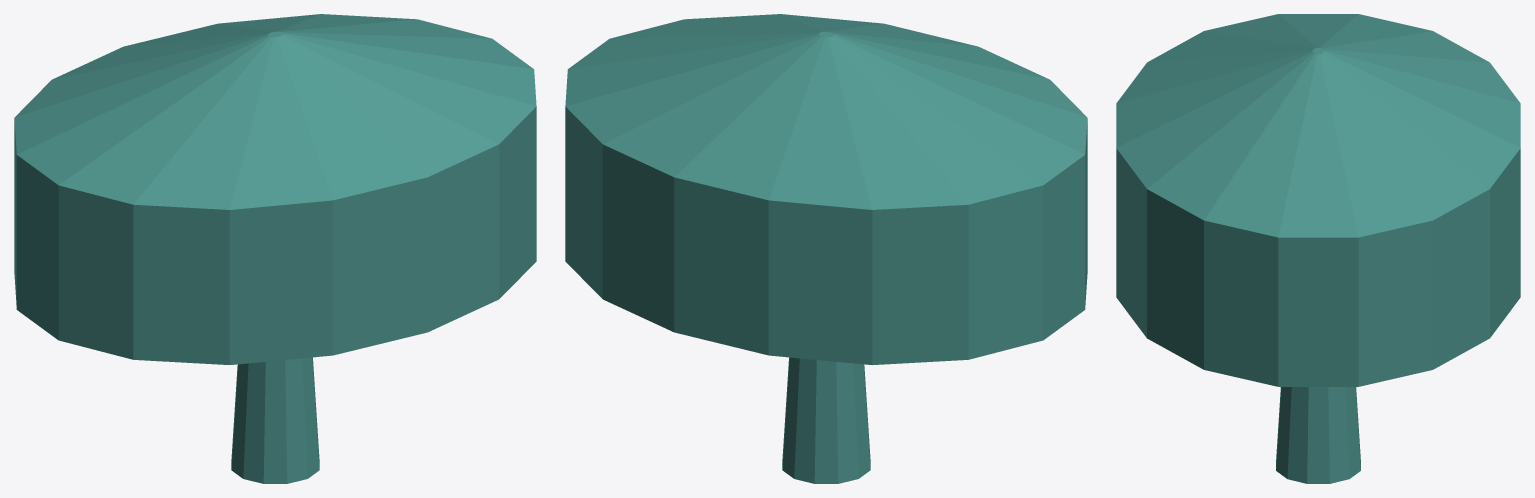
File: City_Planter_AlienFoliage.glb
The picture shows the model from 3 angles, left to right: view 1: azimuth 30°, elevation 25°; view 2: azimuth 150°, elevation 25°; view 3: azimuth 270°, elevation 25°; orthographic projection. The views are drawn at different scales.
Visible parts, largest first — view 1: City_Planter_AlienFoliage; view 2: City_Planter_AlienFoliage; view 3: City_Planter_AlienFoliage.
Boxes of the visible parts, left/top/right/bottom form: City_Planter_AlienFoliage: left=14, top=14, right=536, bottom=483; City_Planter_AlienFoliage: left=565, top=14, right=1087, bottom=483; City_Planter_AlienFoliage: left=1116, top=14, right=1520, bottom=483.
Size of the model in its own units: 1.44 by 1.25 by 1.1.
